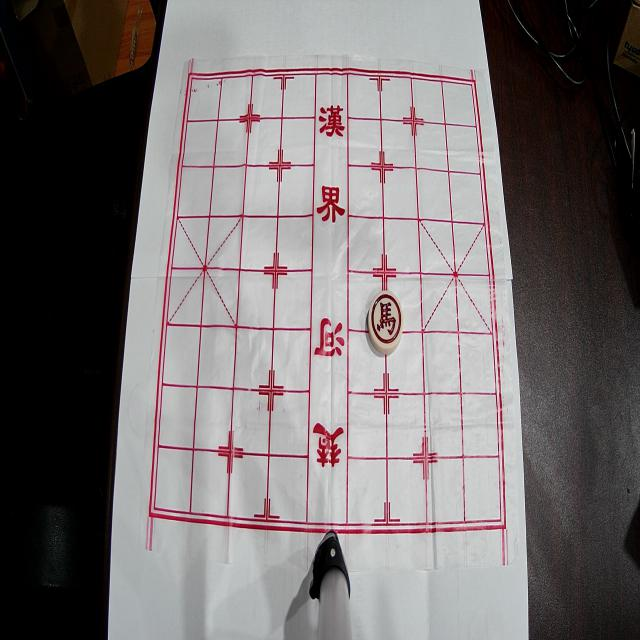red-horse: (368, 291, 403, 354)
